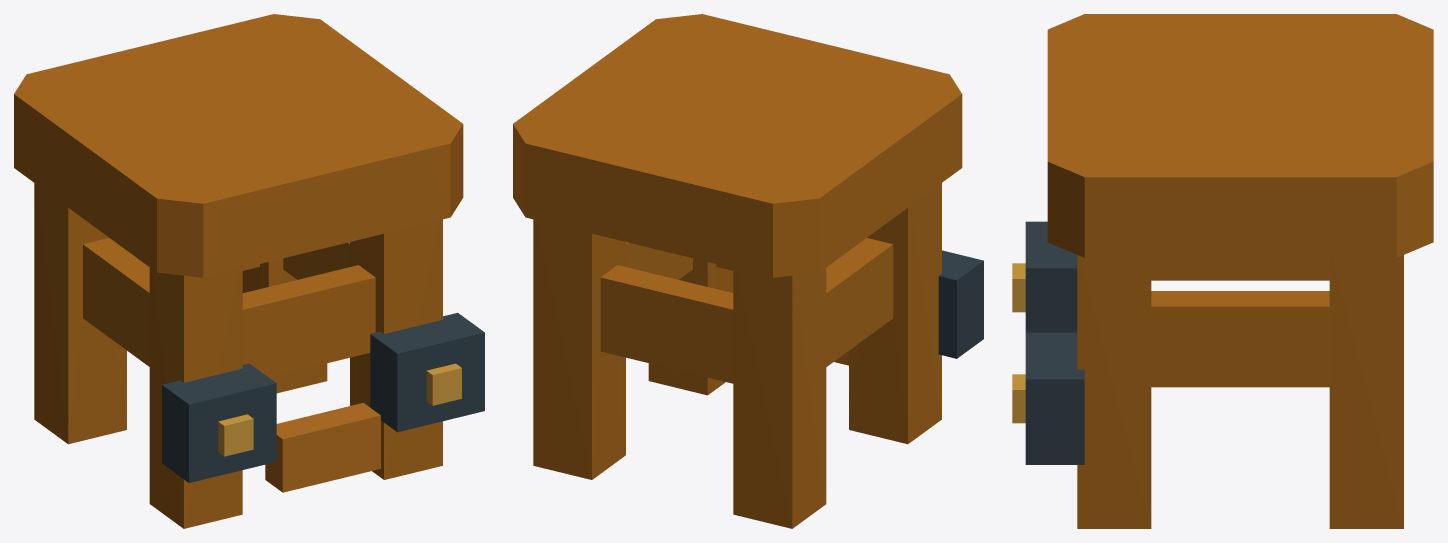
File: market-stool-butter.glb
3 views of the same model, side by side, from view 1: azimuth 30°, elevation 25°; view 2: azimuth 150°, elevation 25°; view 3: azimuth 270°, elevation 25° (orthographic). The views are drawn at different scales.
Parts seen in each view (by area): view 1: market-stool-butter; view 2: market-stool-butter; view 3: market-stool-butter.
Boxes of the visible parts, x1=… form: market-stool-butter: x1=14, y1=14, x2=484, y2=528; market-stool-butter: x1=513, y1=14, x2=983, y2=528; market-stool-butter: x1=1012, y1=14, x2=1433, y2=528.
Bounding box in the file's own units: 0.49 × 0.51 × 0.5347.
